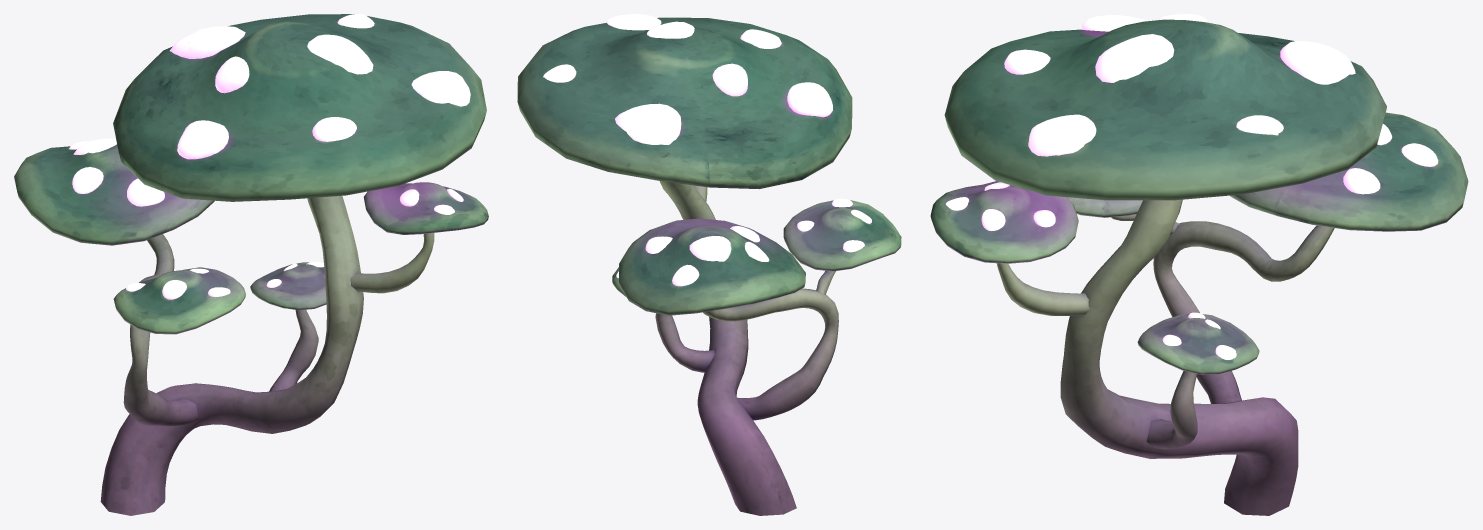
The model's file is mushroom2.glb.
The picture shows the model from 3 angles, left to right: view 1: azimuth 30°, elevation 25°; view 2: azimuth 150°, elevation 25°; view 3: azimuth 270°, elevation 25°; orthographic projection. The views are drawn at different scales.
Visible parts, largest first — view 1: defaultMaterial.001; view 2: defaultMaterial.001; view 3: defaultMaterial.001.
Boxes of the visible parts, x1,y1,x2,y2 form: defaultMaterial.001: (14,14,488,515); defaultMaterial.001: (517,14,901,515); defaultMaterial.001: (930,14,1468,515).
Bounding box in the file's own units: 4.32 × 5.21 × 4.64.
Materials: 1 (1 with a texture image).
